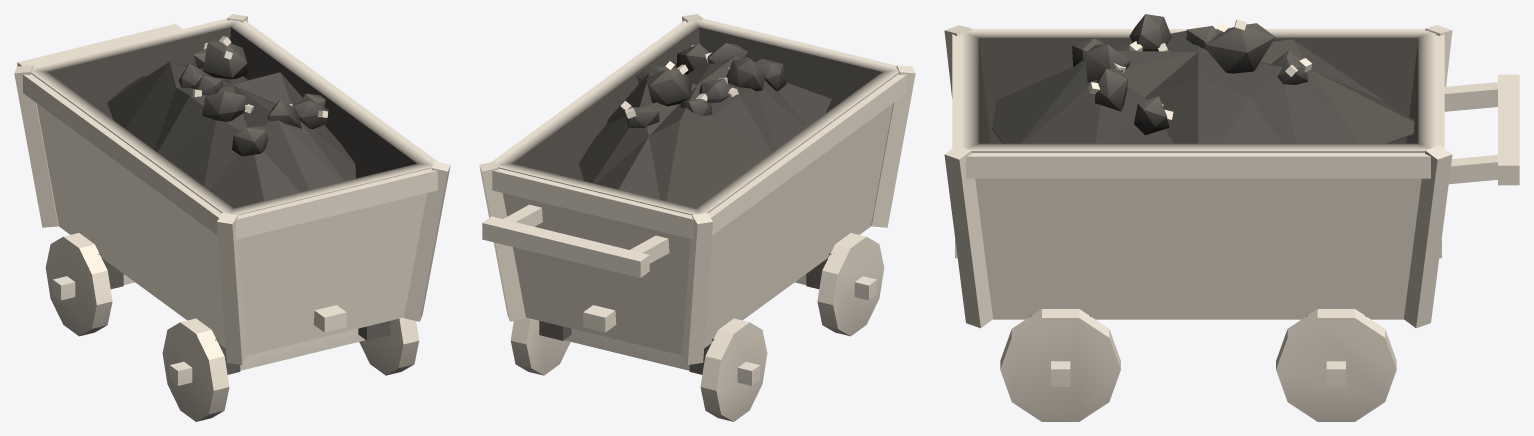
Rendered from SM_VKI_Prop_Mine_Cart_Ore.fbx.
The picture shows the model from 3 angles, left to right: view 1: azimuth 30°, elevation 25°; view 2: azimuth 150°, elevation 25°; view 3: azimuth 270°, elevation 25°; orthographic projection. The views are drawn at different scales.
Visible parts, largest first — view 1: SM_VKI_Prop_Mine_Cart_Ore.001; view 2: SM_VKI_Prop_Mine_Cart_Ore.001; view 3: SM_VKI_Prop_Mine_Cart_Ore.001.
Boxes of the visible parts, x1,y1,x2,y2 form: SM_VKI_Prop_Mine_Cart_Ore.001: (14, 14, 450, 421); SM_VKI_Prop_Mine_Cart_Ore.001: (479, 14, 915, 421); SM_VKI_Prop_Mine_Cart_Ore.001: (944, 14, 1519, 421).
Bounding box in the file's own units: 0.74 × 0.8962 × 1.33.
